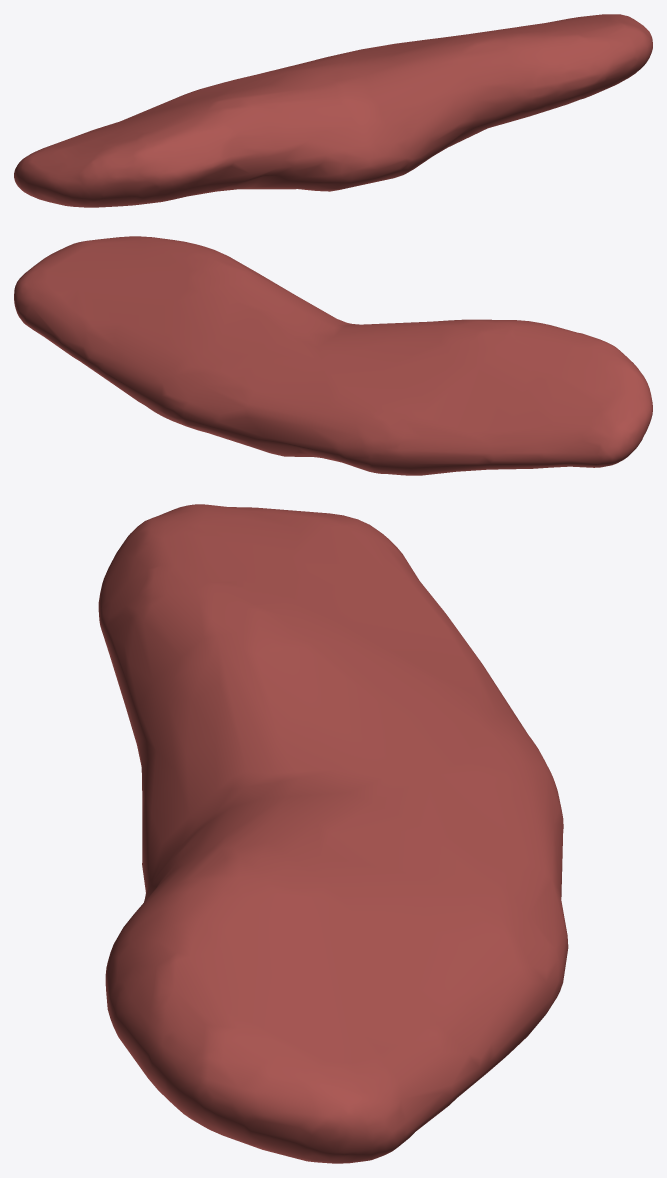
Rendered from FMA62072.glb.
3 views of the same model, one above another, from view 1: azimuth 30°, elevation 25°; view 2: azimuth 150°, elevation 25°; view 3: azimuth 270°, elevation 25° (orthographic). The views are drawn at different scales.
Visible parts, largest first — view 1: FMA62072; view 2: FMA62072; view 3: FMA62072.
Boxes of the visible parts, x1,y1,x2,y2 form: FMA62072: (14,14,652,207); FMA62072: (14,236,652,475); FMA62072: (98,504,568,1163).
Size of the model in its own units: 0.0146 by 0.0026 by 0.00483.
